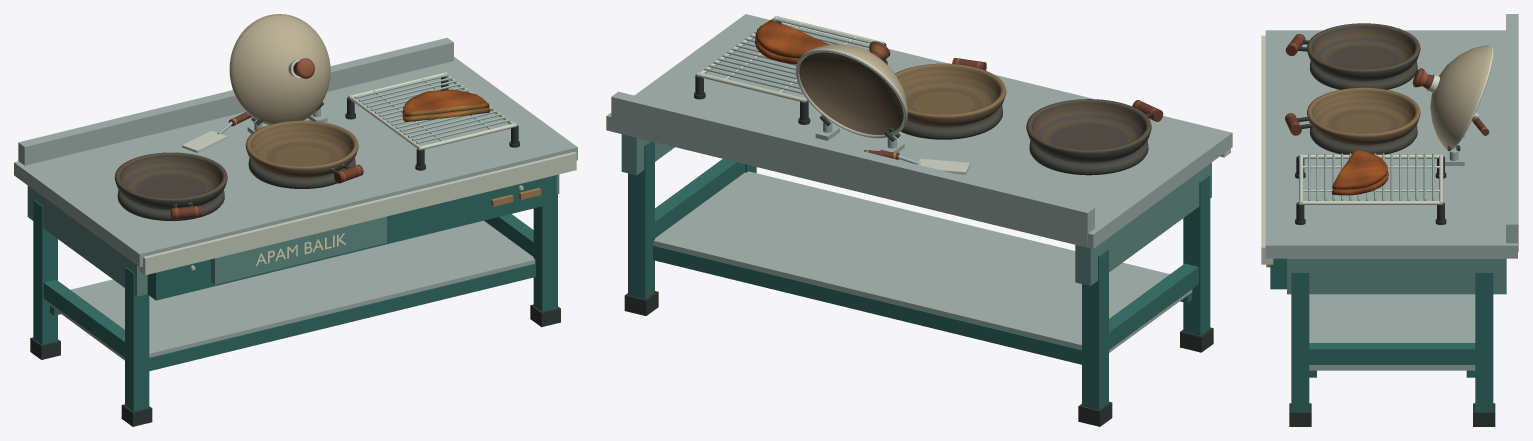
File: pasar-malam-apam-balik-pan-station.glb
3 renders of one model, left to right at view 1: azimuth 30°, elevation 25°; view 2: azimuth 150°, elevation 25°; view 3: azimuth 270°, elevation 25°, orthographic. The views are drawn at different scales.
Visible parts, largest first — view 1: Beveled upper worktop skin, Open lower utility shelf, Raised back lip, stops short of removable dome recess, Rounded front folded stainless edge, True hollow thin removable domed lid, Dark roughened canopy-free skirt, Shelving horizontal edge crossbar, Walled concave radial pan basin RIGHT, Walled concave radial pan basin LEFT, Sand-toned enamel panel with teeth folded into front skirt, Steel skirt side edging, Splayed-look square tube work stand foot (+8 smaller); view 2: Open lower utility shelf, Beveled upper worktop skin, Raised back lip, stops short of removable dome recess, True hollow thin removable domed lid, Shelving horizontal edge crossbar.001, Walled concave radial pan basin LEFT, Walled concave radial pan basin RIGHT, Steel skirt side edging, Splayed-look square tube work stand foot.001, Splayed-look square tube work stand foot.003, Splayed-look square tube work stand foot, Side frame crosspiece fastened into legs (+9 smaller); view 3: Beveled upper worktop skin, Open lower utility shelf, Steel skirt side edging.001, Walled concave radial pan basin LEFT, Walled concave radial pan basin RIGHT, True hollow thin removable domed lid, Side frame crosspiece fastened into legs.001, Raised back lip, stops short of removable dome recess, Splayed-look square tube work stand foot.002, Splayed-look square tube work stand foot.003, Pancake upper turned-over shell and irregular edge, Rounded front folded stainless edge (+10 smaller).
Part boxes in pixels (bbox=[...]): Beveled upper worktop skin: bbox=[14, 57, 577, 267]; Open lower utility shelf: bbox=[50, 220, 535, 360]; Raised back lip, stops short of removable dome recess: bbox=[18, 37, 453, 165]; Rounded front folded stainless edge: bbox=[139, 151, 576, 275]; True hollow thin removable domed lid: bbox=[229, 14, 330, 124]; Dark roughened canopy-free skirt: bbox=[147, 175, 556, 300]; Shelving horizontal edge crossbar: bbox=[149, 263, 535, 371]; Walled concave radial pan basin RIGHT: bbox=[245, 120, 358, 178]; Walled concave radial pan basin LEFT: bbox=[114, 152, 227, 210]; Sand-toned enamel panel with teeth folded into front skirt: bbox=[211, 216, 386, 284]; Steel skirt side edging: bbox=[27, 185, 147, 296]; Splayed-look square tube work stand foot: bbox=[125, 267, 149, 411]; Open lower utility shelf: bbox=[653, 171, 1192, 352]; Beveled upper worktop skin: bbox=[606, 14, 1232, 248]; Raised back lip, stops short of removable dome recess: bbox=[611, 91, 1094, 243]; True hollow thin removable domed lid: bbox=[795, 44, 907, 138]; Shelving horizontal edge crossbar.001: bbox=[653, 245, 1081, 364]; Walled concave radial pan basin LEFT: bbox=[1026, 99, 1151, 163]; Walled concave radial pan basin RIGHT: bbox=[895, 63, 1006, 127]; Steel skirt side edging: bbox=[1075, 162, 1211, 285]; Splayed-look square tube work stand foot.001: bbox=[1082, 249, 1108, 409]; Splayed-look square tube work stand foot.003: bbox=[628, 141, 654, 299]; Splayed-look square tube work stand foot: bbox=[1183, 175, 1210, 335]; Side frame crosspiece fastened into legs: bbox=[1109, 263, 1198, 349]; Beveled upper worktop skin: bbox=[1265, 30, 1517, 258]; Open lower utility shelf: bbox=[1309, 294, 1475, 370]; Steel skirt side edging.001: bbox=[1287, 258, 1506, 294]; Walled concave radial pan basin LEFT: bbox=[1307, 23, 1420, 81]; Walled concave radial pan basin RIGHT: bbox=[1307, 87, 1420, 145]; True hollow thin removable domed lid: bbox=[1430, 45, 1493, 150]; Side frame crosspiece fastened into legs.001: bbox=[1309, 343, 1475, 364]; Raised back lip, stops short of removable dome recess: bbox=[1506, 14, 1518, 252]; Splayed-look square tube work stand foot.002: bbox=[1291, 272, 1309, 411]; Splayed-look square tube work stand foot.003: bbox=[1475, 272, 1493, 411]; Pancake upper turned-over shell and irregular edge: bbox=[1332, 149, 1387, 189]; Rounded front folded stainless edge: bbox=[1261, 35, 1273, 264].
Size of the model in its own units: 1.42 by 0.8647 by 0.716.
